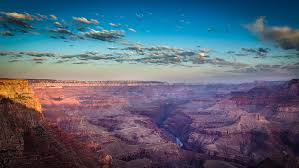mountain: (3, 80, 298, 163)
sky: (3, 2, 299, 81)
